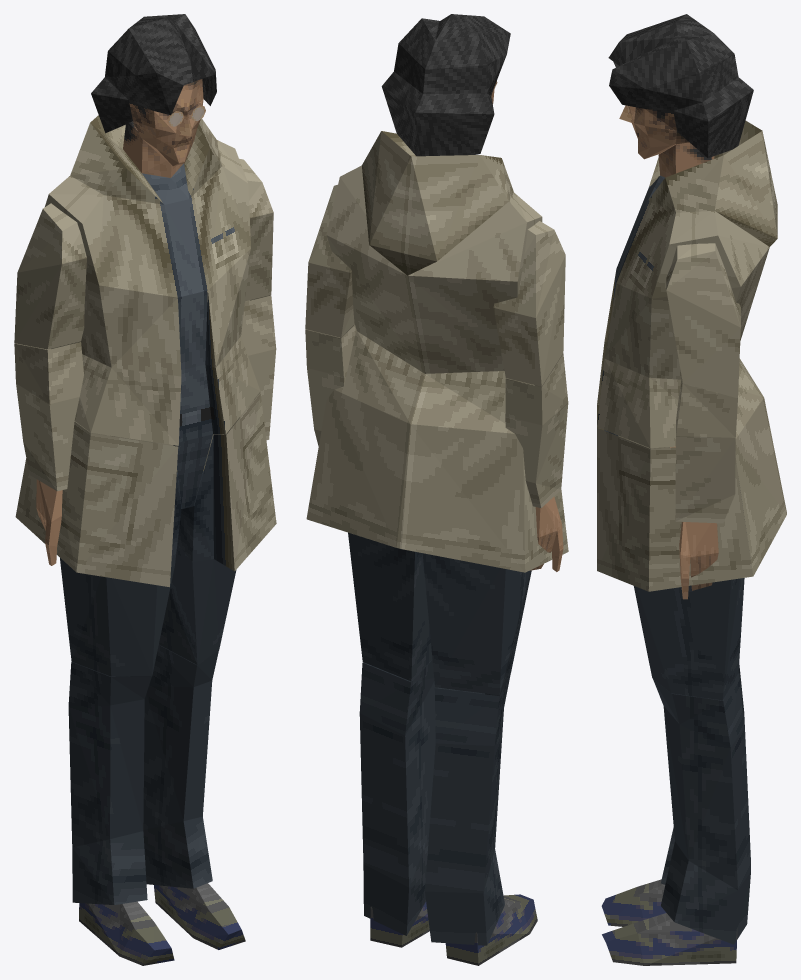
File: Otacon.obj
3 views of the same model, side by side, from view 1: azimuth 30°, elevation 25°; view 2: azimuth 150°, elevation 25°; view 3: azimuth 270°, elevation 25° (orthographic).
Parts seen in each view (by area): view 1: Object.637, Object.714, Object.630, Object.688, Object.785, Object.739, Object.673, Object.665, Object.623, Object.713, Object.610, Object.678 (+35 smaller); view 2: Object.714, Object.637, Object.777, Object.779, Object.706, Object.784, Object.693, Object.708, Object.645, Object.638, Object.739, Object.694 (+22 smaller); view 3: Object.714, Object.665, Object.722, Object.658, Object.779, Object.718, Object.616, Object.653, Object.785, Object.717, Object.709, Object.688 (+28 smaller).
Part boxes in pixels (box(x1,y1,x2,y2)): Object.637: box(68, 661, 151, 904); Object.714: box(143, 644, 218, 888); Object.630: box(76, 433, 178, 587); Object.688: box(99, 249, 250, 376); Object.785: box(91, 336, 260, 445); Object.739: box(14, 341, 85, 491); Object.673: box(99, 195, 177, 297); Object.665: box(226, 392, 276, 570); Object.623: box(60, 558, 174, 676); Object.713: box(106, 577, 157, 676); Object.610: box(189, 166, 250, 289); Object.678: box(15, 422, 90, 572); Object.714: box(359, 659, 435, 935); Object.637: box(425, 674, 510, 945); Object.777: box(401, 424, 525, 572); Object.779: box(306, 390, 410, 547); Object.706: box(422, 553, 505, 695); Object.784: box(335, 331, 518, 433); Object.693: box(348, 532, 432, 681); Object.708: box(407, 275, 517, 373); Object.645: box(326, 165, 526, 281); Object.638: box(411, 155, 508, 261); Object.739: box(505, 353, 568, 507); Object.694: box(326, 235, 424, 373); Object.714: box(653, 673, 750, 944); Object.665: box(597, 428, 753, 591); Object.722: box(675, 377, 737, 523); Object.658: box(653, 580, 731, 700); Object.779: box(735, 398, 786, 575); Object.718: box(666, 290, 740, 398); Object.616: box(602, 913, 737, 965); Object.653: box(715, 131, 777, 238); Object.785: box(597, 358, 650, 448); Object.717: box(613, 33, 734, 89); Object.709: box(649, 235, 740, 379); Object.688: box(604, 283, 651, 377).
Size of the model in its own units: 4.8 by 17.78 by 3.34.
Materials: 31 (31 with a texture image).
